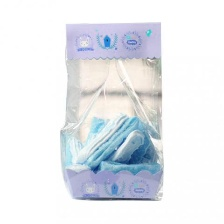snack: (50, 14, 172, 205)
